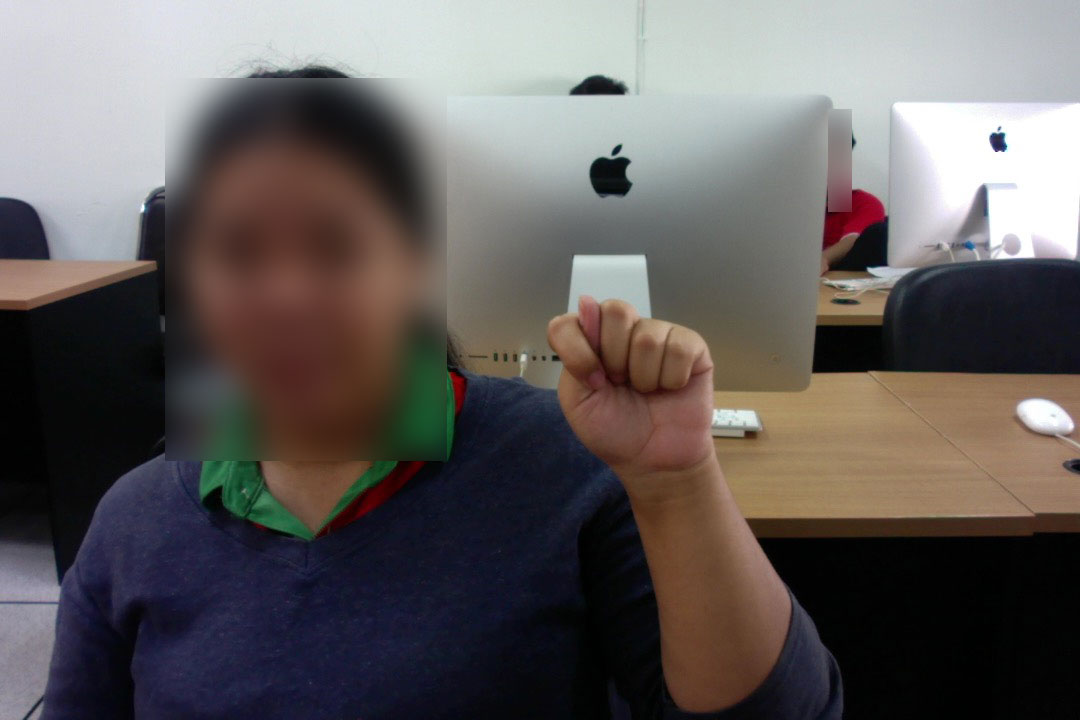tor: (542, 289, 720, 500)
